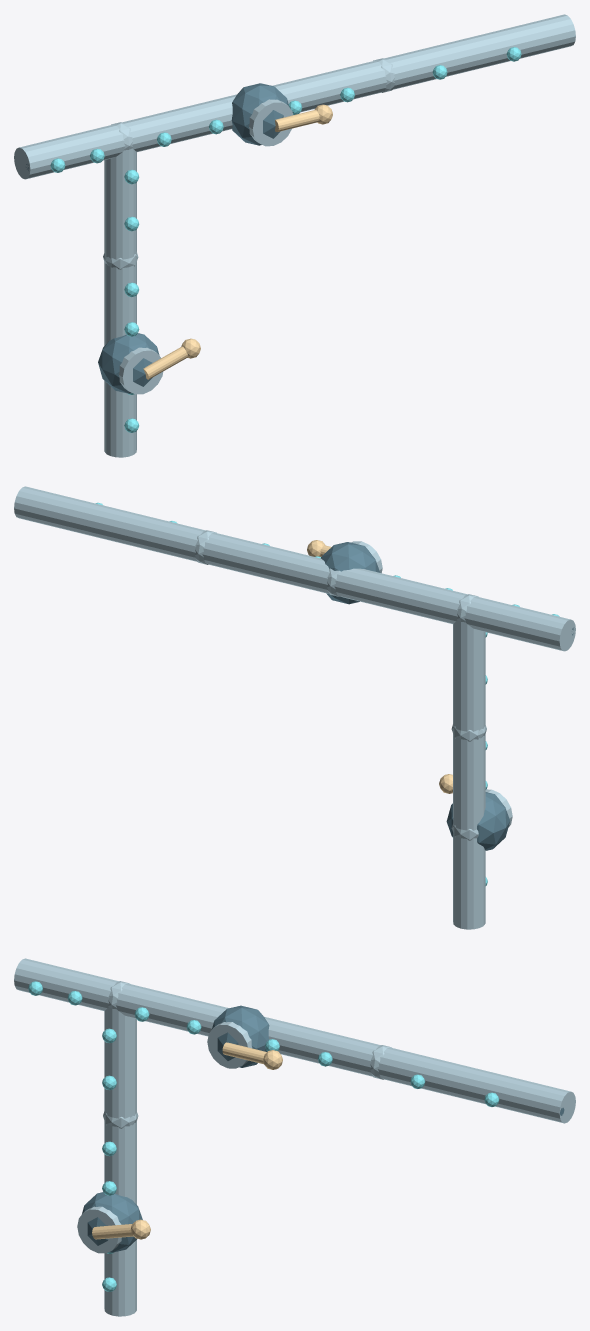
File: water-11-1.glb
The picture shows the model from 3 angles, top to bottom: view 1: azimuth 30°, elevation 25°; view 2: azimuth 150°, elevation 25°; view 3: azimuth 330°, elevation 25°; orthographic projection.
Parts seen in each view (by area): view 1: pipe, dark, flow, handle; view 2: pipe, dark; view 3: pipe, dark, flow, handle.
Boxes of the visible parts, x1=… form: pipe: x1=14, y1=14, x2=575, y2=457; dark: x1=26, y1=83, x2=289, y2=393; flow: x1=50, y1=47, x2=521, y2=432; handle: x1=143, y1=104, x2=332, y2=379; pipe: x1=14, y1=486, x2=575, y2=929; dark: x1=321, y1=542, x2=574, y2=850; pipe: x1=14, y1=958, x2=575, y2=1316; dark: x1=82, y1=1005, x2=564, y2=1252; flow: x1=28, y1=981, x2=499, y2=1291; handle: x1=92, y1=1042, x2=282, y2=1239.
Size of the model in its own units: 2.77 by 1.65 by 0.343.
